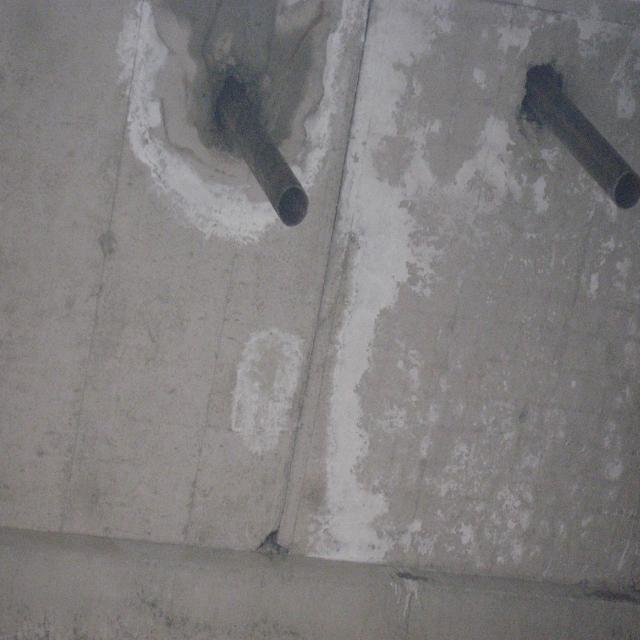corrosion: (201, 55, 318, 242), (509, 52, 640, 213)
